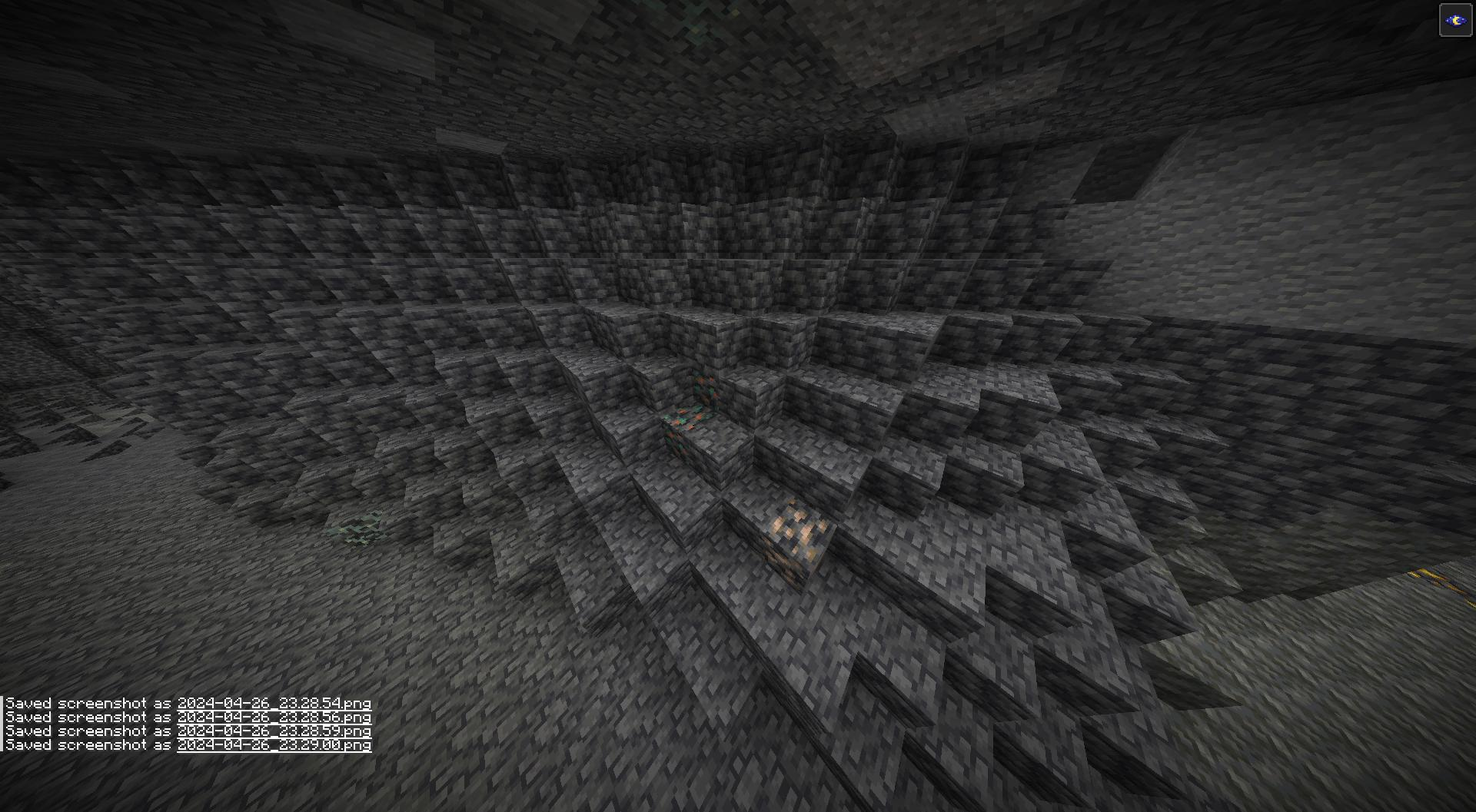iron ore: (758, 496, 843, 583)
